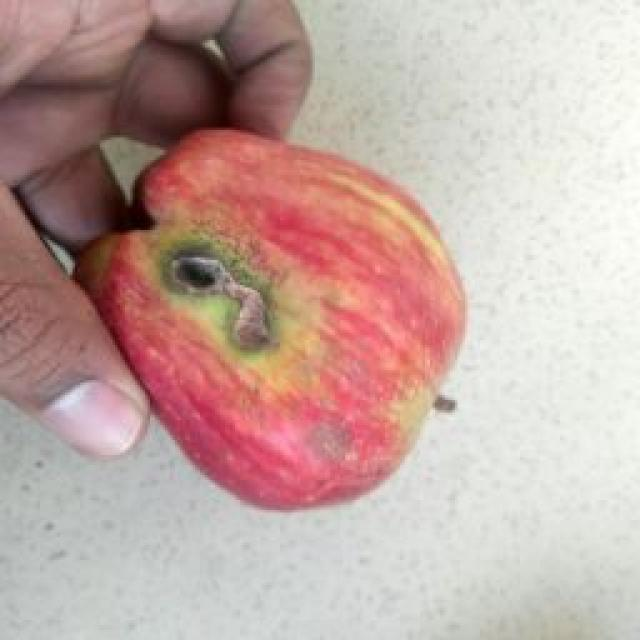Bad_Apple: (76, 130, 464, 508)
